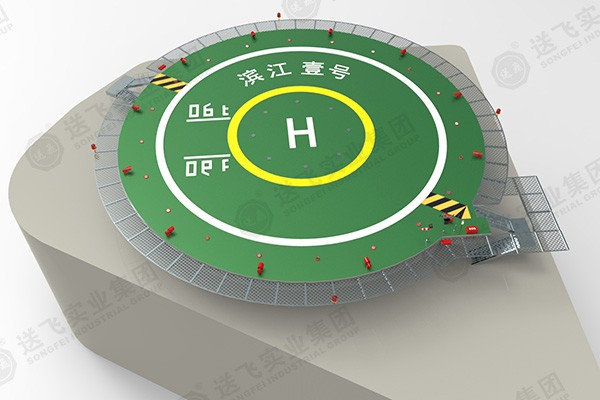H: (286, 118, 318, 149)
